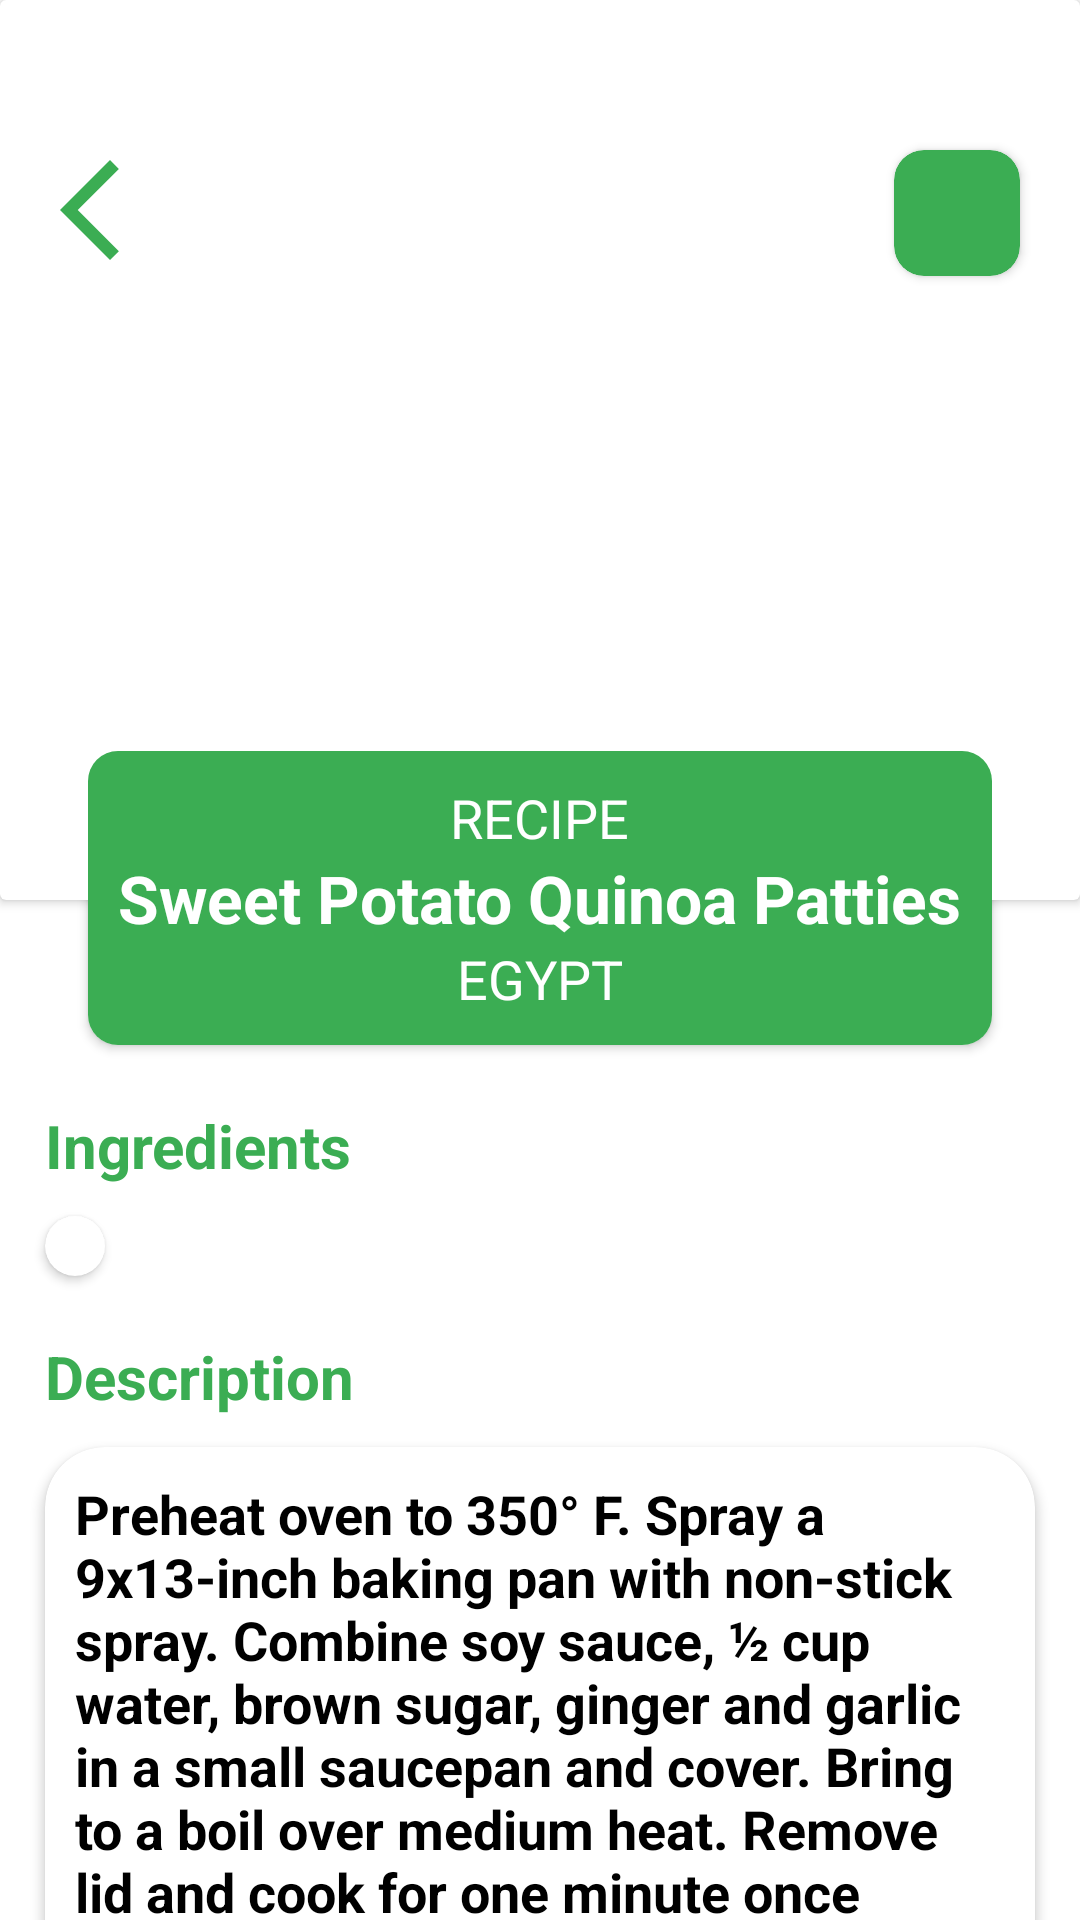

Where to tap for icons on this 1080px x 1920px app screen, as (x,y):
arrow back: (89,210)
